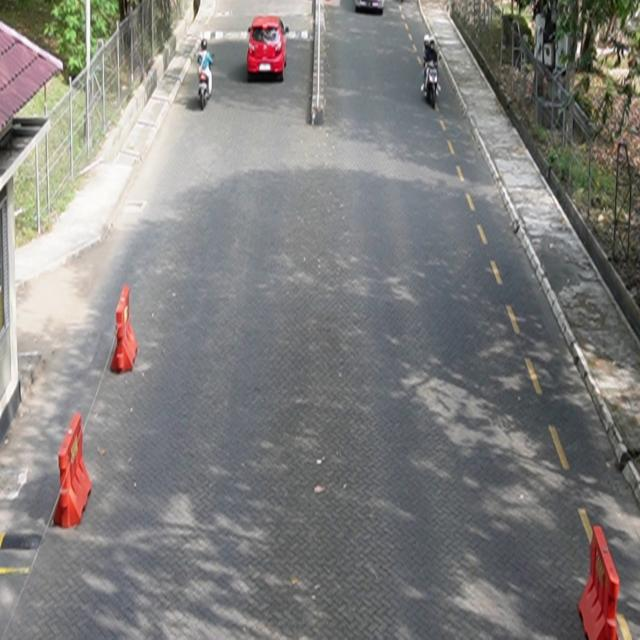car: (248, 16, 290, 82)
